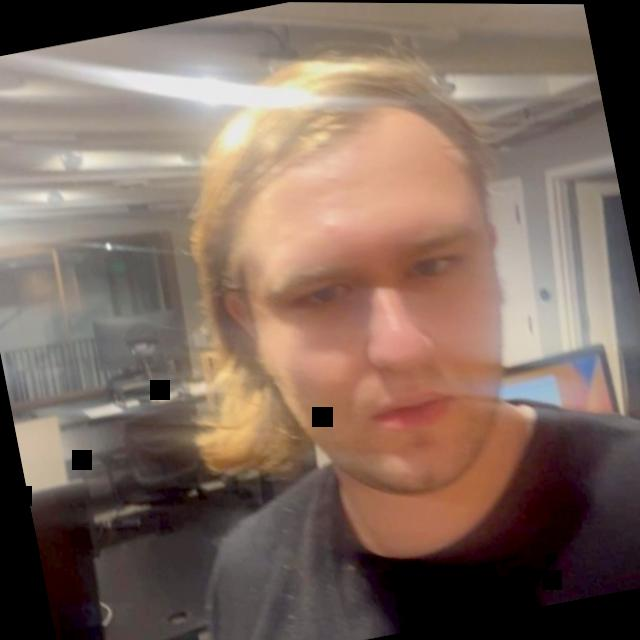NO-Mask: (135, 1, 640, 607)
